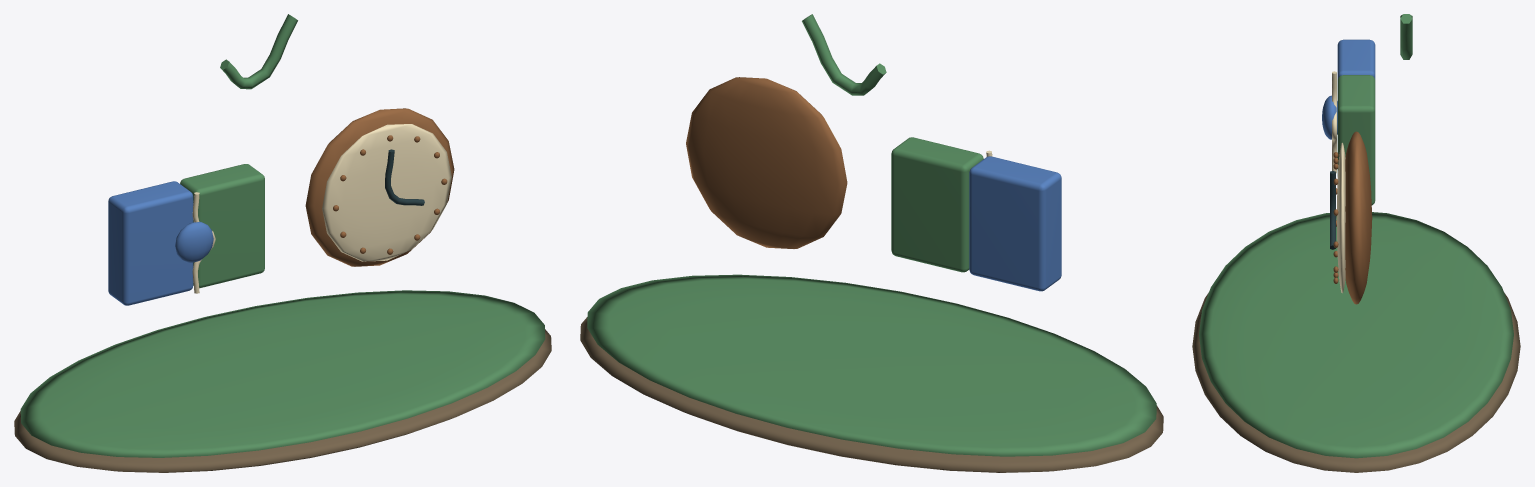
File: complete-third-same-time.glb
3 renders of one model, left to right at view 1: azimuth 30°, elevation 25°; view 2: azimuth 150°, elevation 25°; view 3: azimuth 270°, elevation 25°, orthographic. The views are drawn at different scales.
Visible parts, largest first — view 1: complete-third-same-time_surface_01, complete-third-same-time_surface_03, complete-third-same-time_surface_02, complete-third-same-time_surface_00, complete-third-same-time_surface_04, complete-third-same-time_surface_05; view 2: complete-third-same-time_surface_01, complete-third-same-time_surface_04, complete-third-same-time_surface_02, complete-third-same-time_surface_00; view 3: complete-third-same-time_surface_01, complete-third-same-time_surface_00, complete-third-same-time_surface_04, complete-third-same-time_surface_02, complete-third-same-time_surface_03, complete-third-same-time_surface_05.
Boxes of the visible parts, <box> form: complete-third-same-time_surface_01: <box>20,14,545,457</box>; complete-third-same-time_surface_03: <box>192,124,451,293</box>; complete-third-same-time_surface_02: <box>108,181,213,305</box>; complete-third-same-time_surface_00: <box>14,329,551,472</box>; complete-third-same-time_surface_04: <box>305,108,454,266</box>; complete-third-same-time_surface_05: <box>385,149,424,205</box>; complete-third-same-time_surface_01: <box>587,14,1156,456</box>; complete-third-same-time_surface_04: <box>686,77,847,248</box>; complete-third-same-time_surface_02: <box>969,156,1061,291</box>; complete-third-same-time_surface_00: <box>580,317,1163,472</box>; complete-third-same-time_surface_01: <box>1199,14,1513,458</box>; complete-third-same-time_surface_00: <box>1192,292,1520,472</box>; complete-third-same-time_surface_04: <box>1333,131,1372,304</box>; complete-third-same-time_surface_02: <box>1322,39,1375,139</box>; complete-third-same-time_surface_03: <box>1332,71,1345,293</box>; complete-third-same-time_surface_05: <box>1330,171,1335,249</box>.
Bounding box in the file's own units: 4.56 × 3.05 × 2.5.
